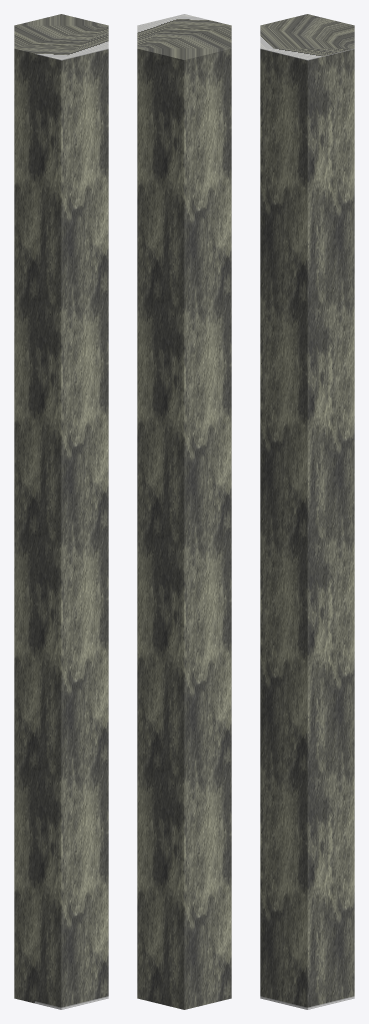
The model's file is pillar.obj.
The picture shows the model from 3 angles, left to right: view 1: azimuth 30°, elevation 25°; view 2: azimuth 210°, elevation 25°; view 3: azimuth 330°, elevation 25°; orthographic projection.
Parts seen in each view (by area): view 1: mesh01; view 2: mesh01; view 3: mesh01.
Part boxes in pixels (left/top/right/bottom): mesh01: left=14, top=14, right=108, bottom=1009; mesh01: left=137, top=14, right=231, bottom=1009; mesh01: left=260, top=14, right=354, bottom=1009.
Bounding box in the file's own units: 6.24 × 59.92 × 5.4.
Materials: 1 (1 with a texture image).
